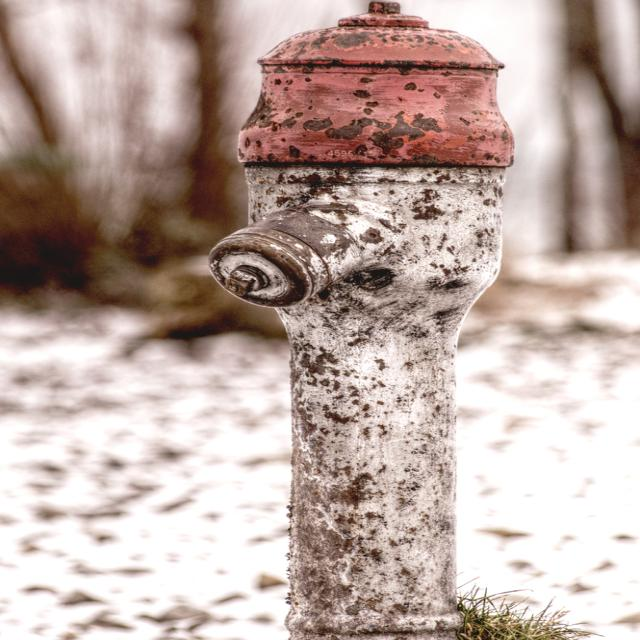fire_hydrant: (208, 3, 516, 639)
